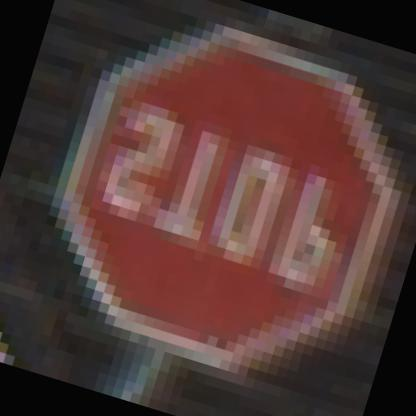stop: (6, 0, 415, 404)
